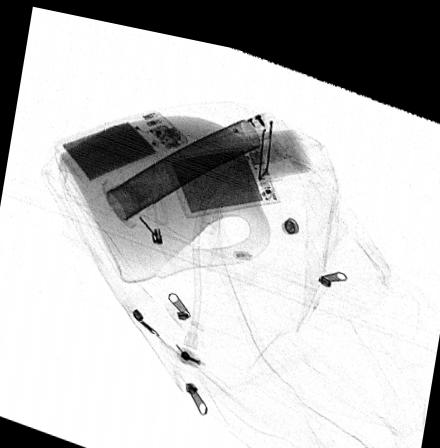Powerbank: (57, 102, 188, 179), (164, 132, 281, 210)
